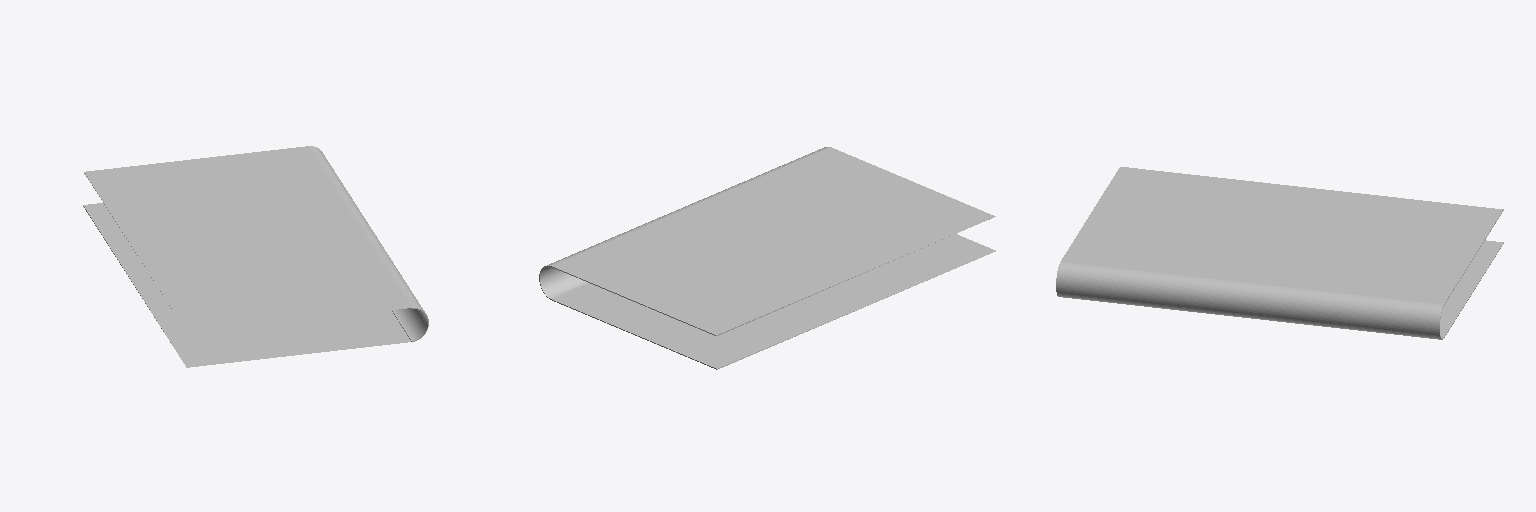
The model's file is LIVROS SOMENTE_polymsh15.obj.
The picture shows the model from 3 angles: view 1: azimuth 30°, elevation 25°; view 2: azimuth 150°, elevation 25°; view 3: azimuth 270°, elevation 25°; orthographic projection.
Parts seen in each view (by area): view 1: polymsh15; view 2: polymsh15; view 3: polymsh15.
Boxes of the visible parts, box(x1,y1,x2,y2) form: polymsh15: box(83, 146, 428, 367); polymsh15: box(539, 147, 995, 369); polymsh15: box(1056, 167, 1503, 339).
Bounding box in the file's own units: 14.29 × 1.56 × 18.58.